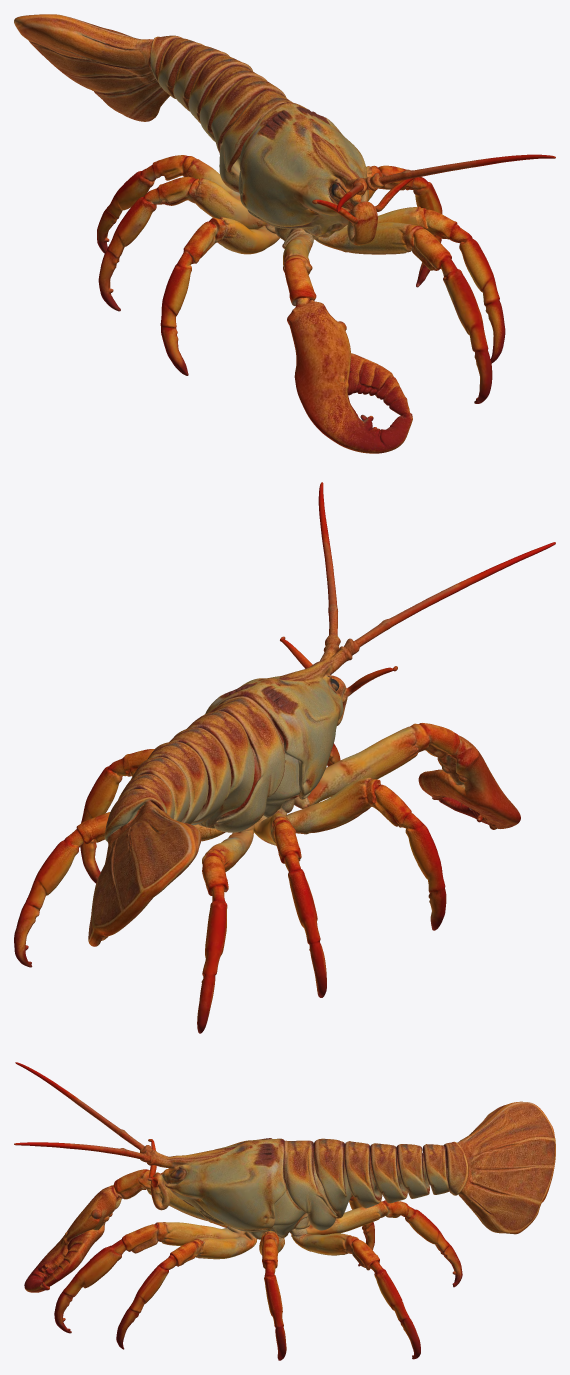
File: bermuda-spiny-lobster.glb
The picture shows the model from 3 angles, top to bottom: view 1: azimuth 30°, elevation 25°; view 2: azimuth 150°, elevation 25°; view 3: azimuth 270°, elevation 25°; orthographic projection. The views are drawn at different scales.
Size of the model in its own units: 0.9833 by 0.8112 by 1.9.
1 material, 1 textured.
